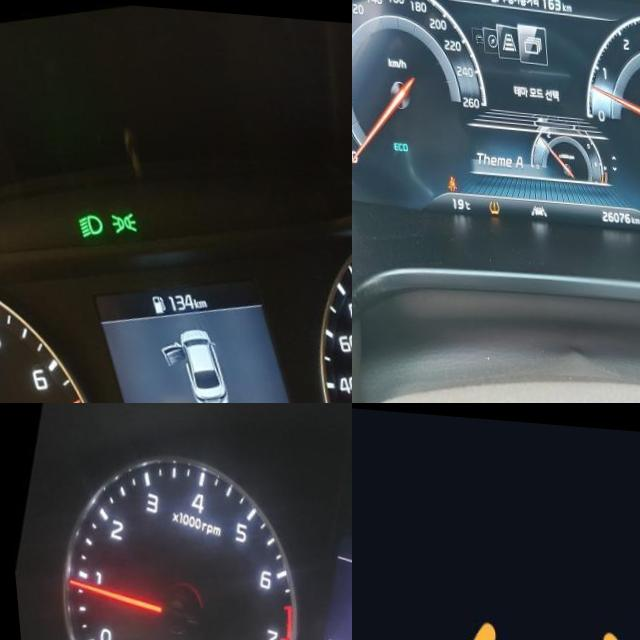LaneCenteringOff: (522, 198, 539, 211)
Low beam: (70, 206, 102, 236)
SideLamp: (103, 203, 134, 231)
